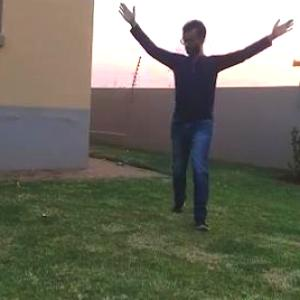takeoff: (114, 0, 299, 236)
